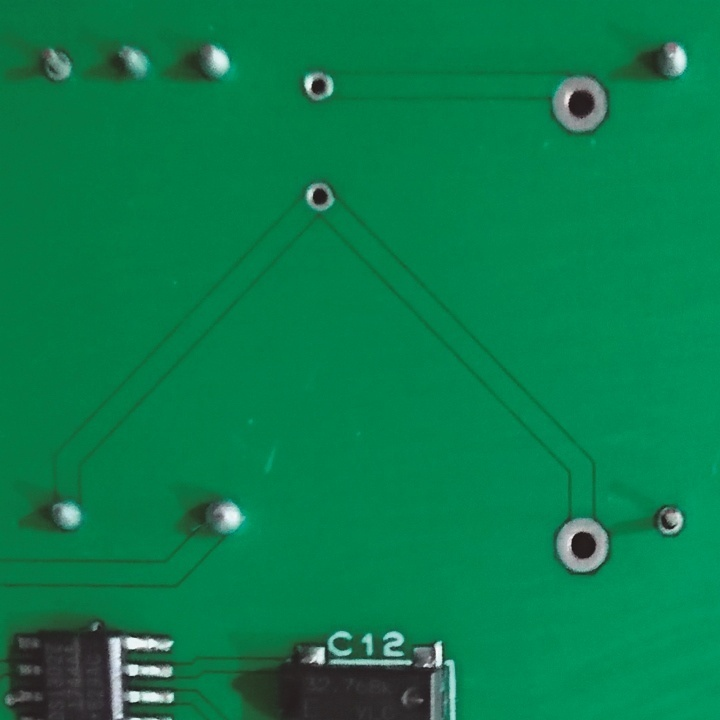F: (549, 69, 616, 144), (552, 512, 613, 580), (38, 43, 80, 84), (650, 502, 687, 547), (298, 69, 336, 106), (304, 177, 335, 221)
